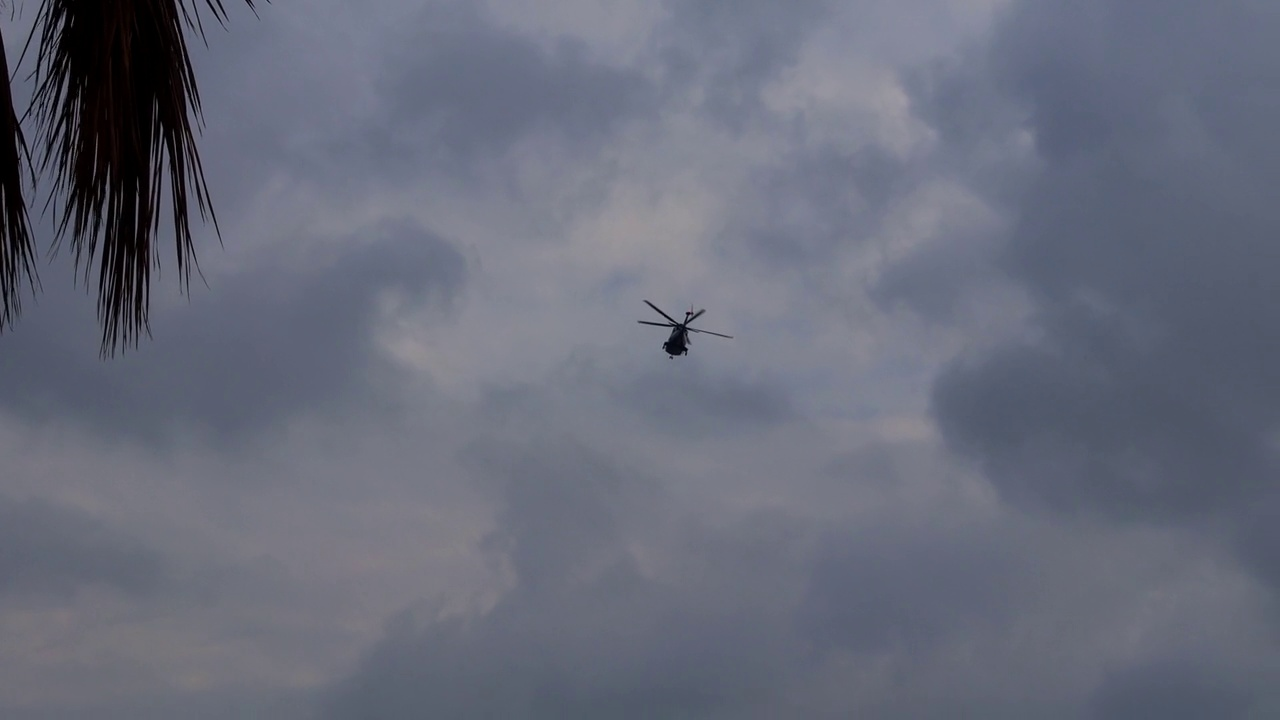heli: (637, 298, 733, 361)
